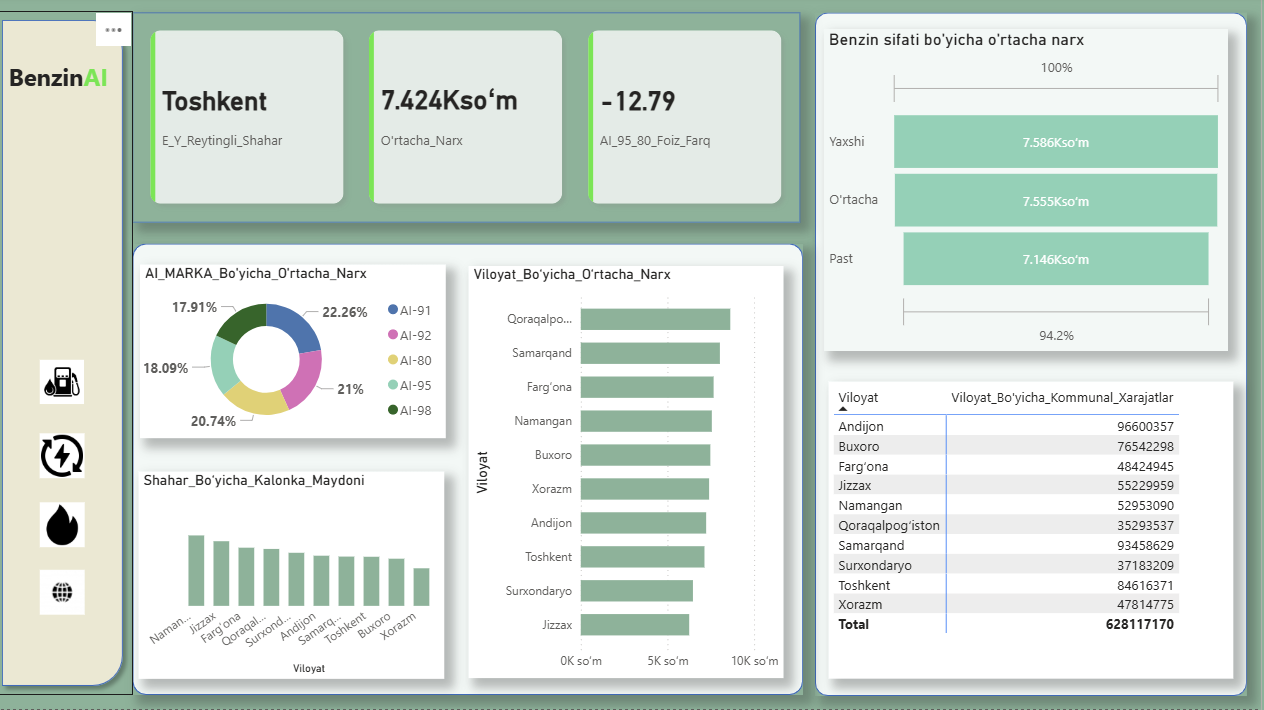

This screenshot's page, from the dashboard's own definition file:
{"tool":"powerbi","page":{"name":"Page 1","canvas":[1280,720],"ordinal":0},"visuals":[{"type":"shape","box":[830,16,436,690],"z":0},{"type":"shape","box":[140.1,249.8,676.9,455.7],"z":1000},{"type":"cardVisual","fields":{"Data":["Benzin.Eng_Yuqori_Reytingli_Shahar","Benzin.O'rtacha_Narx","Benzin.AI_95_80_Foiz_Farq"]},"box":[140.8,16.7,673.8,212],"z":2000},{"type":"pivotTable","fields":{"Rows":["Benzin.Viloyat"],"Values":["Benzin.Viloyat_Bo'yicha_Kommunal_Xarajatlar"]},"box":[843.4,389.2,408.8,299.8],"z":3000},{"type":"clusteredBarChart","title":"Viloyat_Bo‘yicha_O‘rtacha_Narx ","fields":{"Y":["Benzin.Viloyat_Bo‘yicha_O‘rtacha_Narx"],"Category":["Benzin.Viloyat"]},"box":[480,272,318,416],"z":4000},{"type":"shape","box":[0,15.2,140.1,690.4],"z":5000},{"type":"donutChart","title":"AI_MARKA_Bo''yicha_O''rtacha_Narx ","fields":{"Category":["Benzin.AI MARKA"],"Y":["Benzin.AI_MARKA_Bo'yicha_O'rtacha_Narx"]},"box":[148.3,271.7,308.3,175],"z":6000},{"type":"clusteredColumnChart","title":"Shahar_Bo‘yicha_Kalonka_Maydoni ","fields":{"Category":["Benzin.Viloyat"],"Y":["Benzin.Shahar_Bo‘yicha_Kalonka_Maydoni"]},"box":[146.8,479.4,308.9,209.3],"z":7000},{"type":"funnel","title":"Benzin sifati bo''yicha o''rtacha narx","fields":{"Category":["Benzin.Benzin sifati"],"Y":["Benzin.O'rtacha_Narx"]},"box":[838.9,33.3,407.3,325.6],"z":8000},{"type":"image","box":[4.4,362.2,130,55],"z":9000},{"type":"image","box":[8.9,435.6,121.1,55.6],"z":10000},{"type":"image","box":[4.3,505.7,130,55.7],"z":11000},{"type":"image","box":[4.3,574.3,130,55.7],"z":12000},{"type":"textbox","box":[10,58.3,121.7,53.3],"z":13000}]}

Visuals, with their boxes on the page's 1280x720 design canvas (x1, y1, x2, y2). These are canvas units, not pixel positions in the 1264x710 screenshot, which may show the page scaled, cropped or inside an application window:
shape: locate(830, 16, 1266, 706)
shape: locate(140, 250, 817, 706)
cardVisual - Benzin.Eng_Yuqori_Reytingli_Shahar x Benzin.O'rtacha_Narx: locate(141, 17, 815, 229)
pivotTable - Benzin.Viloyat x Benzin.Viloyat_Bo'yicha_Kommunal_Xarajatlar: locate(843, 389, 1252, 689)
"Viloyat_Bo‘yicha_O‘rtacha_Narx " clusteredBarChart: locate(480, 272, 798, 688)
shape: locate(0, 15, 140, 706)
"AI_MARKA_Bo''yicha_O''rtacha_Narx " donutChart: locate(148, 272, 457, 447)
"Shahar_Bo‘yicha_Kalonka_Maydoni " clusteredColumnChart: locate(147, 479, 456, 689)
"Benzin sifati bo''yicha o''rtacha narx" funnel: locate(839, 33, 1246, 359)
image: locate(4, 362, 134, 417)
image: locate(9, 436, 130, 491)
image: locate(4, 506, 134, 561)
image: locate(4, 574, 134, 630)
textbox: locate(10, 58, 132, 112)
